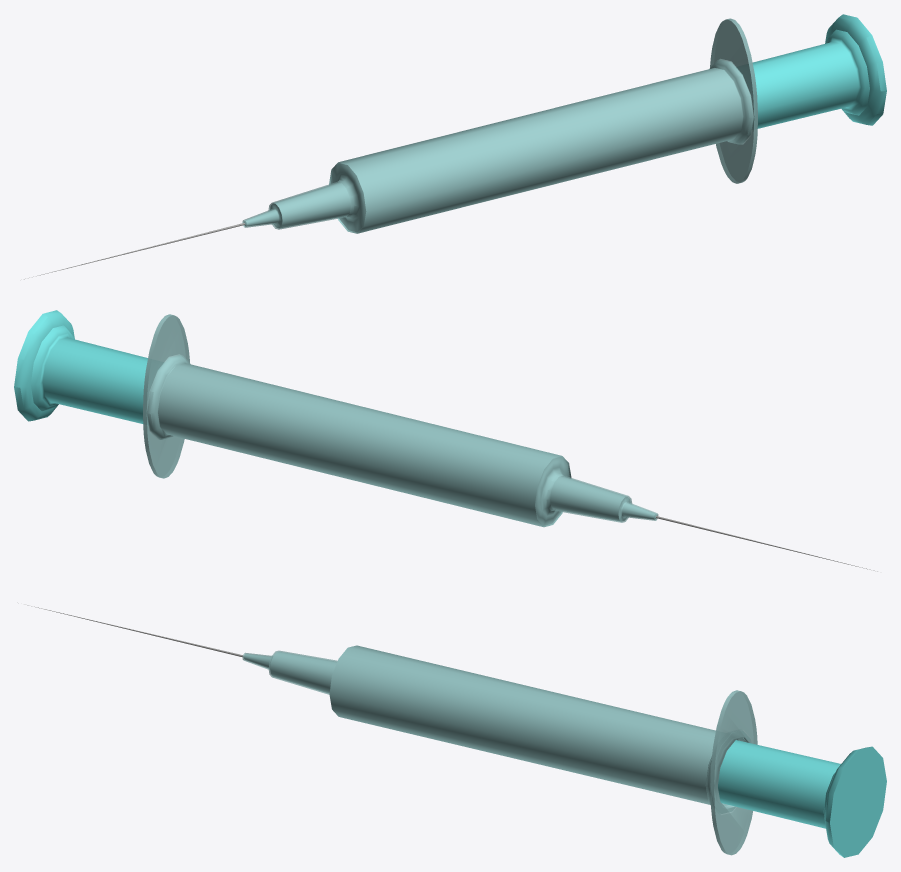
Rendered from jeringa.fbx.
3 renders of one model, top to bottom at view 1: azimuth 30°, elevation 25°; view 2: azimuth 150°, elevation 25°; view 3: azimuth 330°, elevation 25°, orthographic.
Visible parts, largest first — view 1: sy_Shape_1; view 2: sy_Shape_1; view 3: sy_Shape_1.
Boxes of the visible parts, x1=… form: sy_Shape_1: x1=24, y1=14, x2=886, y2=279; sy_Shape_1: x1=14, y1=310, x2=877, y2=571; sy_Shape_1: x1=27, y1=605, x2=886, y2=857.
Bounding box in the file's own units: 13.68 × 2.49 × 1.62.
